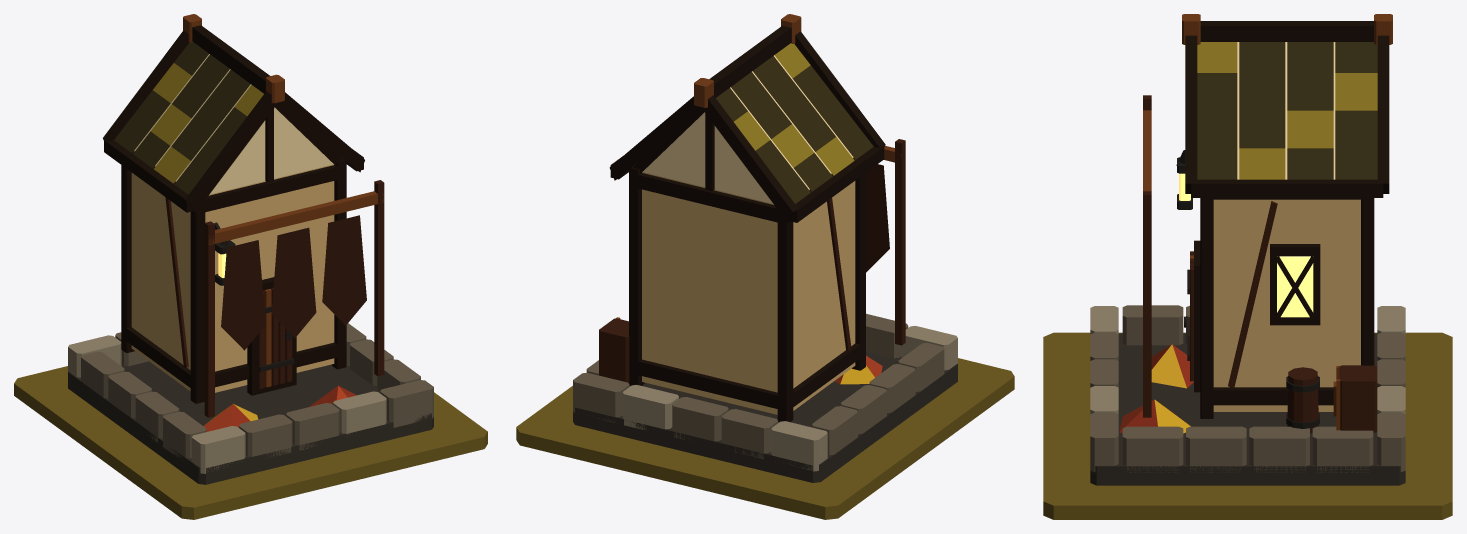
File: tannery_t4.glb
3 renders of one model, left to right at view 1: azimuth 30°, elevation 25°; view 2: azimuth 150°, elevation 25°; view 3: azimuth 270°, elevation 25°, orthographic. The views are drawn at different scales.
Parts seen in each view (by area): view 1: MMR | tannery | T04 Architecture.001, MMR | tannery | Tier 04 Ground.001, MMR | tannery | T04 Autumn Dressing.001; view 2: MMR | tannery | T04 Architecture.001, MMR | tannery | Tier 04 Ground.001, MMR | tannery | T04 Autumn Dressing.001; view 3: MMR | tannery | T04 Architecture.001, MMR | tannery | Tier 04 Ground.001, MMR | tannery | T04 Autumn Dressing.001.
Part boxes in pixels (<box>): MMR | tannery | T04 Architecture.001: <box>68,14,433,484</box>; MMR | tannery | Tier 04 Ground.001: <box>14,366,487,519</box>; MMR | tannery | T04 Autumn Dressing.001: <box>203,385,356,431</box>; MMR | tannery | T04 Architecture.001: <box>573,14,957,482</box>; MMR | tannery | Tier 04 Ground.001: <box>516,358,1014,519</box>; MMR | tannery | T04 Autumn Dressing.001: <box>835,356,882,384</box>; MMR | tannery | T04 Architecture.001: <box>1090,14,1405,485</box>; MMR | tannery | Tier 04 Ground.001: <box>1043,332,1452,519</box>; MMR | tannery | T04 Autumn Dressing.001: <box>1119,344,1193,433</box>.
Bounding box in the file's own units: 1.3 × 1.46 × 1.3.
Materials: 2 (1 with a texture image).
